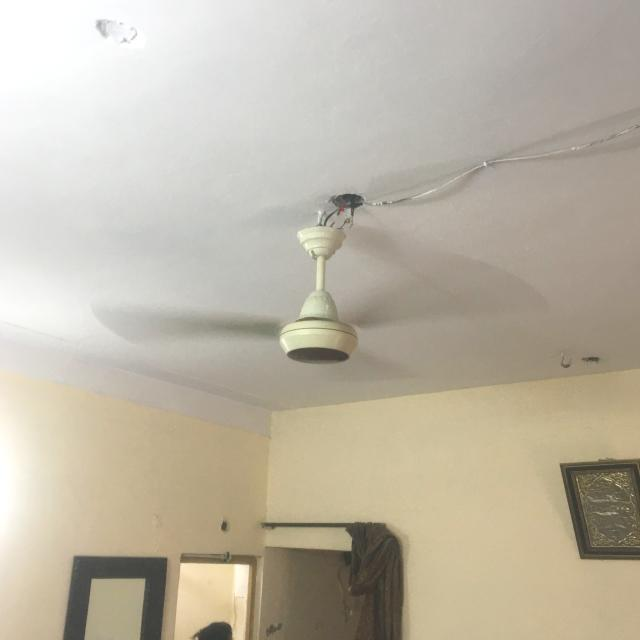on: (82, 238, 556, 393)
